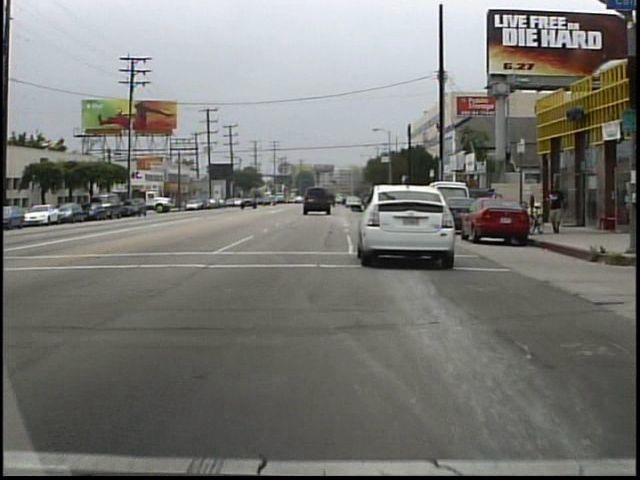person: (545, 176, 568, 238)
